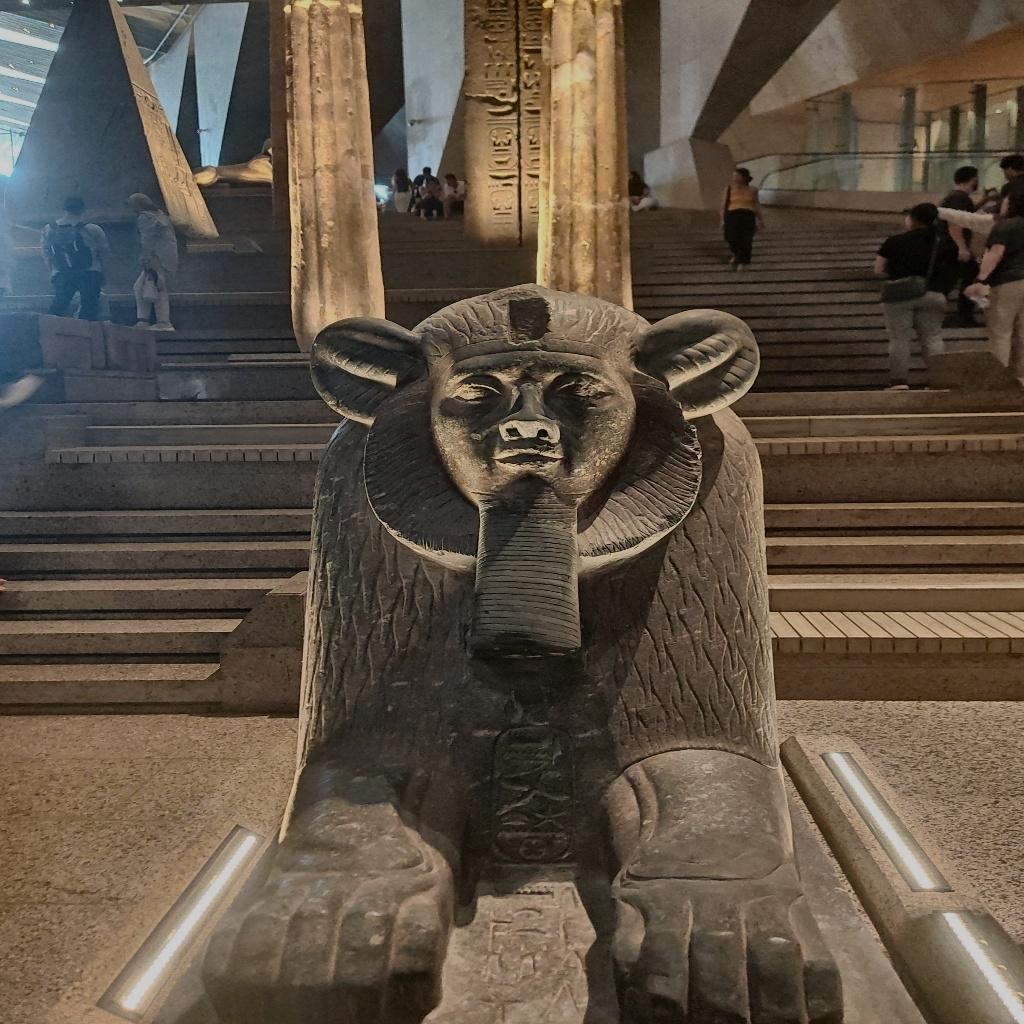Sphinx of Amenmhat III: (200, 280, 854, 1024)
